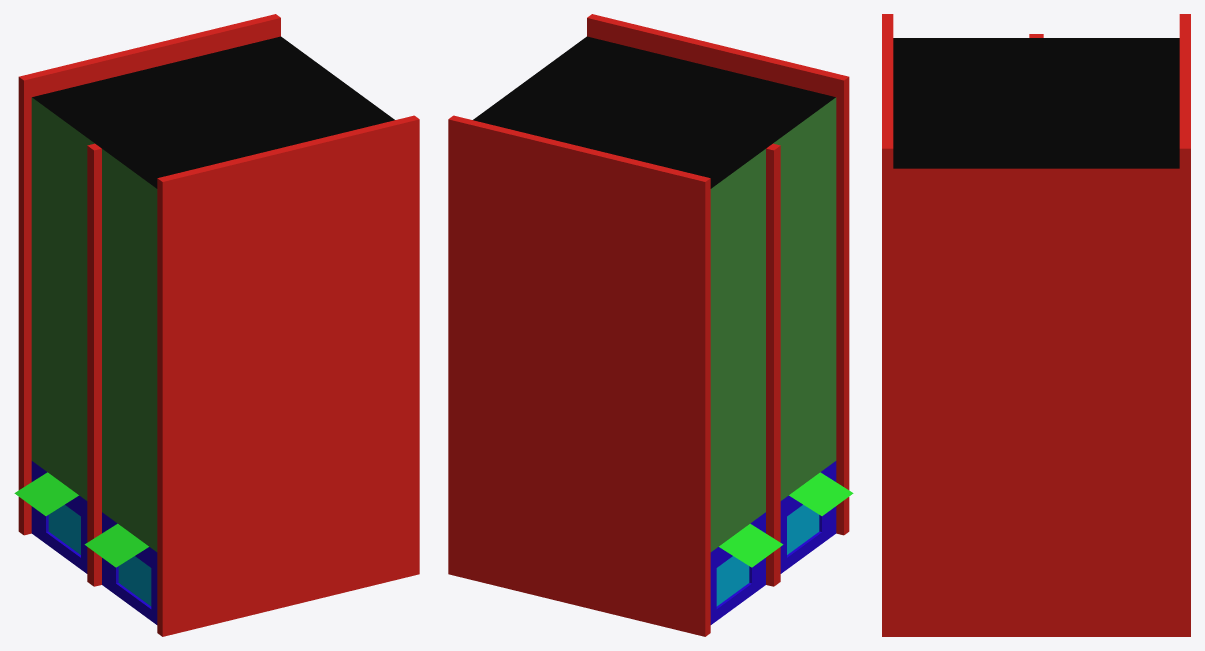
Rendered from TallStoreBuilding.fbx.
The picture shows the model from 3 angles, left to right: view 1: azimuth 30°, elevation 25°; view 2: azimuth 150°, elevation 25°; view 3: azimuth 270°, elevation 25°; orthographic projection. The views are drawn at different scales.
Visible parts, largest first — view 1: TallBuilding; view 2: TallBuilding; view 3: TallBuilding.
Part boxes in pixels (<box>): TallBuilding: <box>14,14,419,636</box>; TallBuilding: <box>448,14,853,636</box>; TallBuilding: <box>882,14,1190,636</box>.
Size of the model in its own units: 1053 by 1621 by 929.
